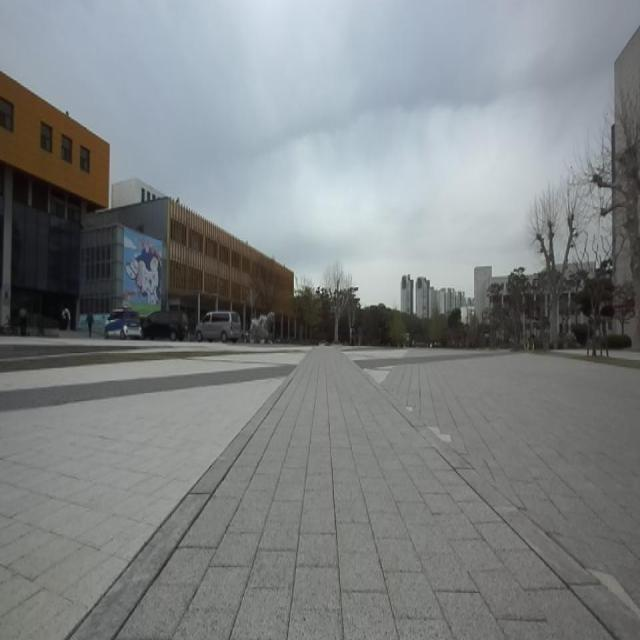sidewalk: (74, 348, 640, 639)
